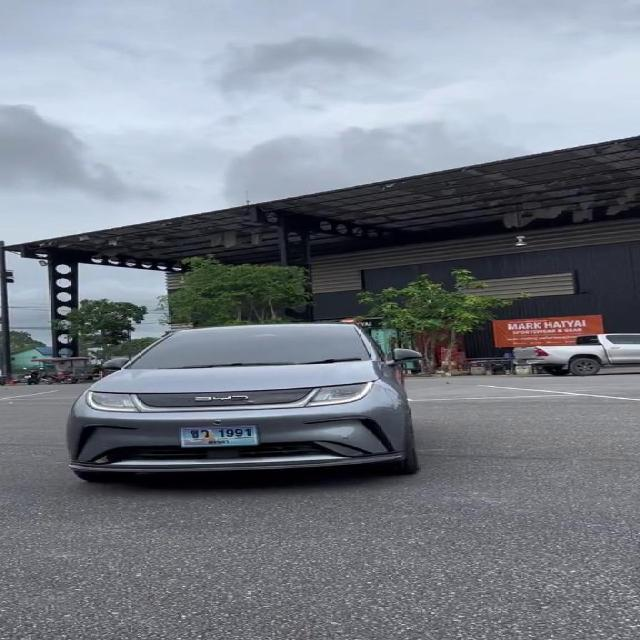Hatchback: (69, 324, 418, 481)
